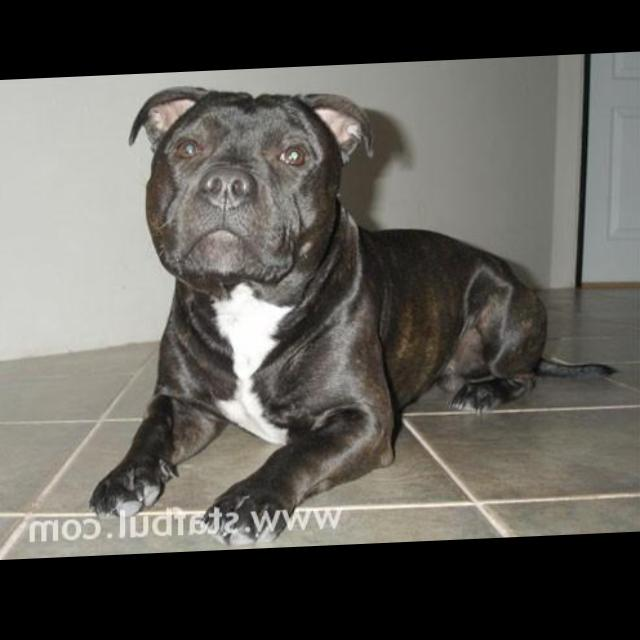staffford: (91, 71, 622, 554)
